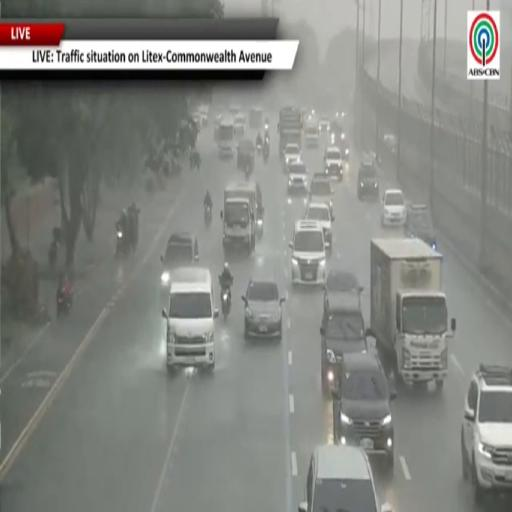car: (333, 354, 396, 472), (461, 364, 511, 503), (298, 445, 392, 511), (162, 267, 218, 371), (321, 284, 368, 393), (242, 280, 284, 340), (289, 220, 326, 285), (161, 232, 199, 289), (324, 268, 363, 310), (404, 204, 438, 250), (306, 202, 334, 250), (309, 173, 333, 214), (381, 189, 406, 227), (358, 158, 379, 200), (287, 160, 307, 196), (324, 147, 343, 180), (237, 139, 255, 170), (284, 143, 302, 170), (304, 115, 319, 147), (330, 114, 345, 145), (338, 138, 350, 172), (249, 107, 263, 130), (383, 134, 397, 154), (234, 114, 245, 136), (198, 104, 209, 125), (319, 116, 330, 133), (228, 104, 241, 117)
motorcycle: (219, 276, 232, 319), (116, 226, 131, 258), (57, 291, 72, 316), (48, 239, 58, 271), (221, 287, 231, 319), (204, 205, 212, 227), (245, 163, 252, 180), (263, 146, 269, 163), (256, 143, 261, 154)
truck: (369, 237, 455, 389), (221, 183, 257, 253), (278, 107, 302, 154)
